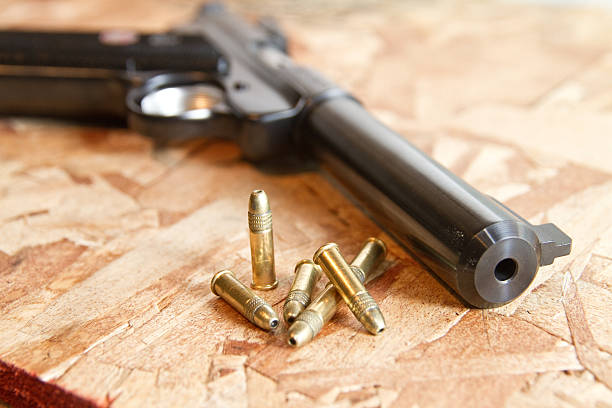gun: (0, 0, 571, 309)
